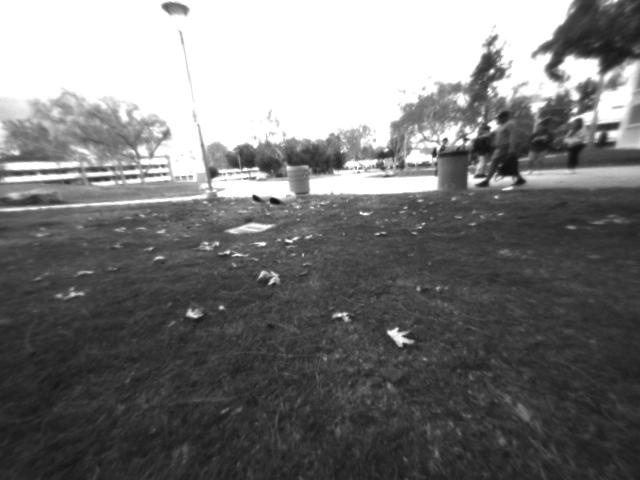trashcan: (432, 149, 467, 195), (286, 163, 313, 201)
